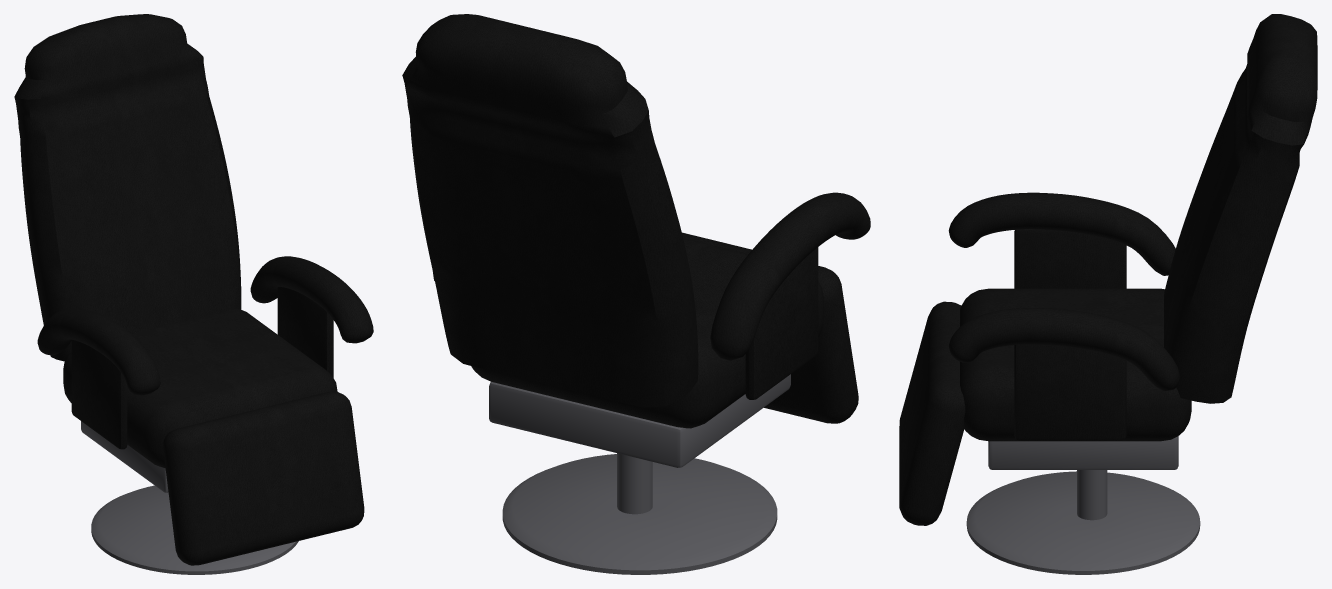
The model's file is recCdpTAwdbzDqE6b.glb.
The picture shows the model from 3 angles, left to right: view 1: azimuth 30°, elevation 25°; view 2: azimuth 150°, elevation 25°; view 3: azimuth 270°, elevation 25°; orthographic projection. The views are drawn at different scales.
Parts seen in each view (by area): view 1: fauteuil_relax_Corps; view 2: fauteuil_relax_Corps; view 3: fauteuil_relax_Corps.
Boxes of the visible parts, bbox=[...] form: fauteuil_relax_Corps: bbox=[14, 14, 373, 574]; fauteuil_relax_Corps: bbox=[402, 14, 870, 574]; fauteuil_relax_Corps: bbox=[899, 14, 1317, 574].
Bounding box in the file's own units: 0.72 × 1.25 × 0.9668.
Materials: 2 (1 with a texture image).
